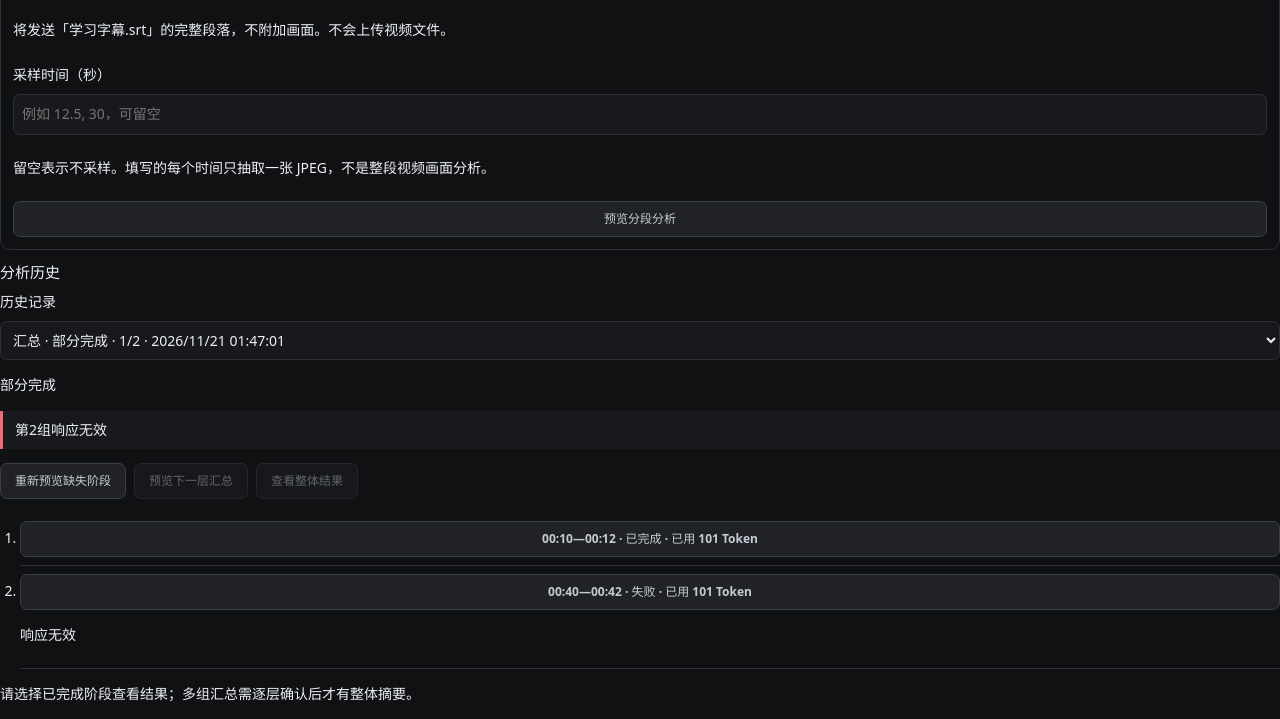
it: repreviews a failed summary against its real parent and supports cancellation with scoped progress
Later steps or results of the test are not shown.
(page scrolled)
Step 1. Click the button "重新预览缺失阶段" → (63, 481), box [0,463,126,499]
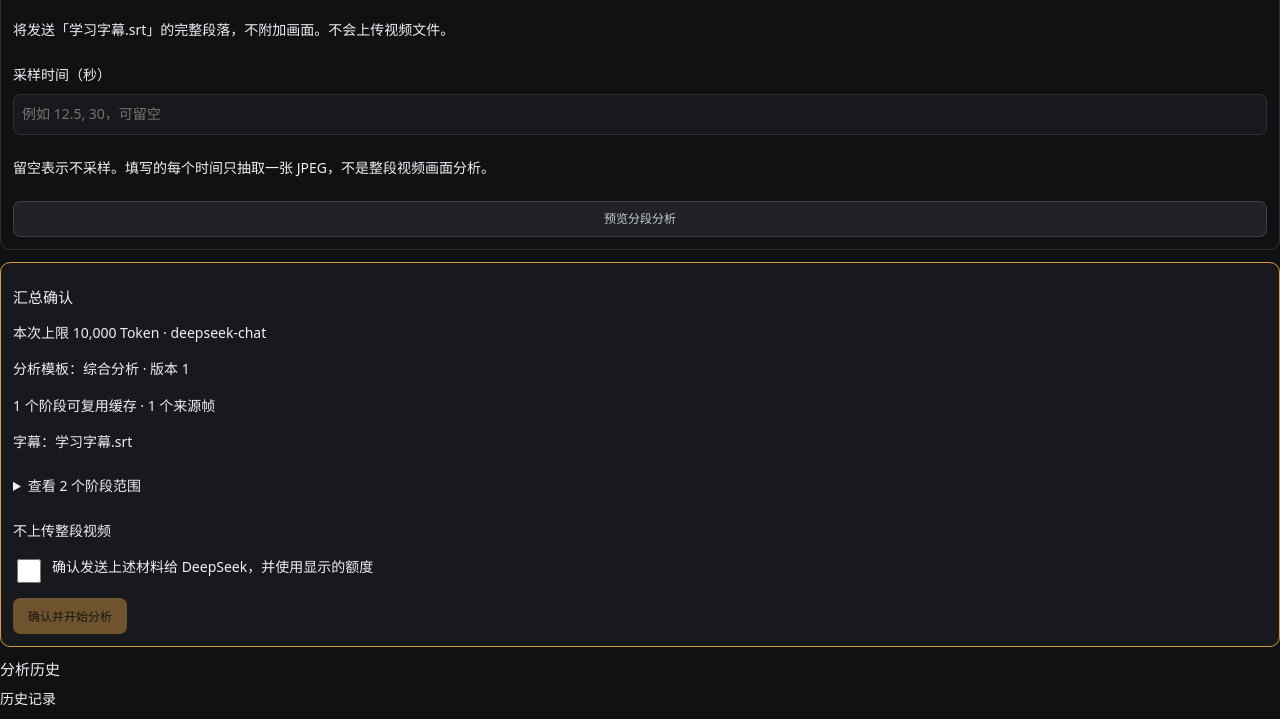
Check: the text "本次上限 10,000 Token · deepseek-chat" is shown, box [13,323,266,342]
